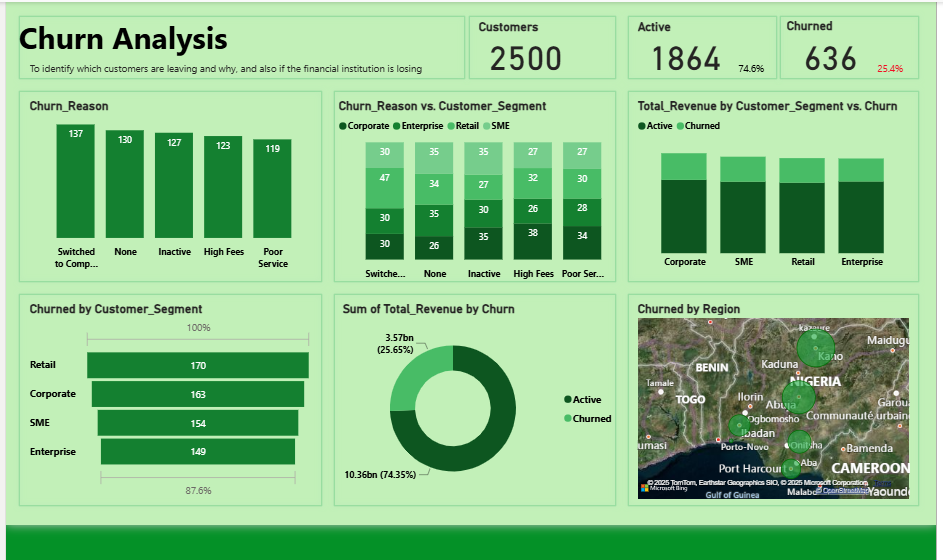

The dashboard page shown, as its layout file describes it:
{"tool":"powerbi","page":{"name":"Page 1","canvas":[1280,720],"ordinal":0},"visuals":[{"type":"shape","box":[9.6,11,630.4,103.2],"z":0},{"type":"shape","box":[9.6,114.2,433.5,279.4],"z":1000},{"type":"shape","box":[443.2,114.2,404.6,279.4],"z":2000},{"type":"shape","box":[847.8,114.2,417,279.4],"z":3000},{"type":"shape","box":[9.6,393.6,433.5,308.3],"z":4000},{"type":"shape","box":[443.2,393.6,404.6,308.3],"z":5000},{"type":"shape","box":[847.8,393.6,417,308.3],"z":6000},{"type":"columnChart","title":" Churn_Reason","fields":{"Category":["financial_churn_dataset.Churn_Reason"],"Y":["Divide(financial_churn_dataset.Churned, ScopedEval(financial_churn_dataset.Churned, []))"]},"box":[27.5,132.1,399.1,243.6],"z":7000},{"type":"columnChart","title":"Total_Revenue by Customer_Segment vs. Churn","fields":{"Category":["financial_churn_dataset.Customer_Segment"],"Y":["Sum(financial_churn_dataset.Total_Revenue)"],"Series":["financial_churn_dataset.Churn"]},"box":[864.3,132.1,384,243.6],"z":8000},{"type":"funnel","fields":{"Category":["financial_churn_dataset.Customer_Segment"],"Y":["financial_churn_dataset.Churned"]},"box":[27.5,411.5,399.1,276.6],"z":9000},{"type":"donutChart","fields":{"Category":["financial_churn_dataset.Churn"],"Y":["Sum(financial_churn_dataset.Total_Revenue)"]},"box":[458.3,411.5,389.5,276.6],"z":10000},{"type":"card","title":"Customers","fields":{"Values":["Count(financial_churn_dataset.Customer_ID)"]},"box":[645.5,23.4,139,79.8],"z":11000},{"type":"shape","box":[629,11,218.8,103.2],"z":12000},{"type":"shape","box":[847.8,11,221.6,103.2],"z":13000},{"type":"shape","box":[1057,11,207.8,103.2],"z":14000},{"type":"card","title":"Active","fields":{"Values":["financial_churn_dataset.Active"]},"box":[864.3,23.4,140.4,79.8],"z":15000},{"type":"card","title":"Churned","fields":{"Values":["financial_churn_dataset.Churned"]},"box":[1069.4,22,130.8,81.2],"z":16000},{"type":"textbox","box":[993.5,76.5,63.8,26.9],"z":17000},{"type":"textbox","box":[1184.9,76.5,63.8,26.9],"z":18000},{"type":"textbox","box":[27.5,77.1,601.5,37.2],"z":19000},{"type":"hundredPercentStackedColumnChart","title":"Churn_Reason vs. Customer_Segment","fields":{"Category":["financial_churn_dataset.Churn_Reason"],"Y":["financial_churn_dataset.Churned"],"Series":["financial_churn_dataset.Customer_Segment"]},"box":[452.8,132.1,400.5,257.4],"z":20000},{"type":"map","title":"Churned by Region","fields":{"Size":["financial_churn_dataset.Churned"],"Category":["financial_churn_dataset.Region"],"Series":["financial_churn_dataset.Region"]},"box":[864.3,411.5,384,276.6],"z":21000}]}

Visuals, with their boxes on the page's 1280x720 design canvas (x1, y1, x2, y2). These are canvas units, not pixel positions in the 943x560 screenshot, which may show the page scaled, cropped or inside an application window:
shape: <region>10, 11, 640, 114</region>
shape: <region>10, 114, 443, 394</region>
shape: <region>443, 114, 848, 394</region>
shape: <region>848, 114, 1265, 394</region>
shape: <region>10, 394, 443, 702</region>
shape: <region>443, 394, 848, 702</region>
shape: <region>848, 394, 1265, 702</region>
" Churn_Reason" columnChart: <region>28, 132, 427, 376</region>
"Total_Revenue by Customer_Segment vs. Churn" columnChart: <region>864, 132, 1248, 376</region>
funnel - financial_churn_dataset.Customer_Segment x financial_churn_dataset.Churned: <region>28, 412, 427, 688</region>
donutChart - financial_churn_dataset.Churn x Sum(financial_churn_dataset.Total_Revenue): <region>458, 412, 848, 688</region>
"Customers" card: <region>646, 23, 784, 103</region>
shape: <region>629, 11, 848, 114</region>
shape: <region>848, 11, 1069, 114</region>
shape: <region>1057, 11, 1265, 114</region>
"Active" card: <region>864, 23, 1005, 103</region>
"Churned" card: <region>1069, 22, 1200, 103</region>
textbox: <region>994, 76, 1057, 103</region>
textbox: <region>1185, 76, 1249, 103</region>
textbox: <region>28, 77, 629, 114</region>
"Churn_Reason vs. Customer_Segment" hundredPercentStackedColumnChart: <region>453, 132, 853, 390</region>
"Churned by Region" map: <region>864, 412, 1248, 688</region>
